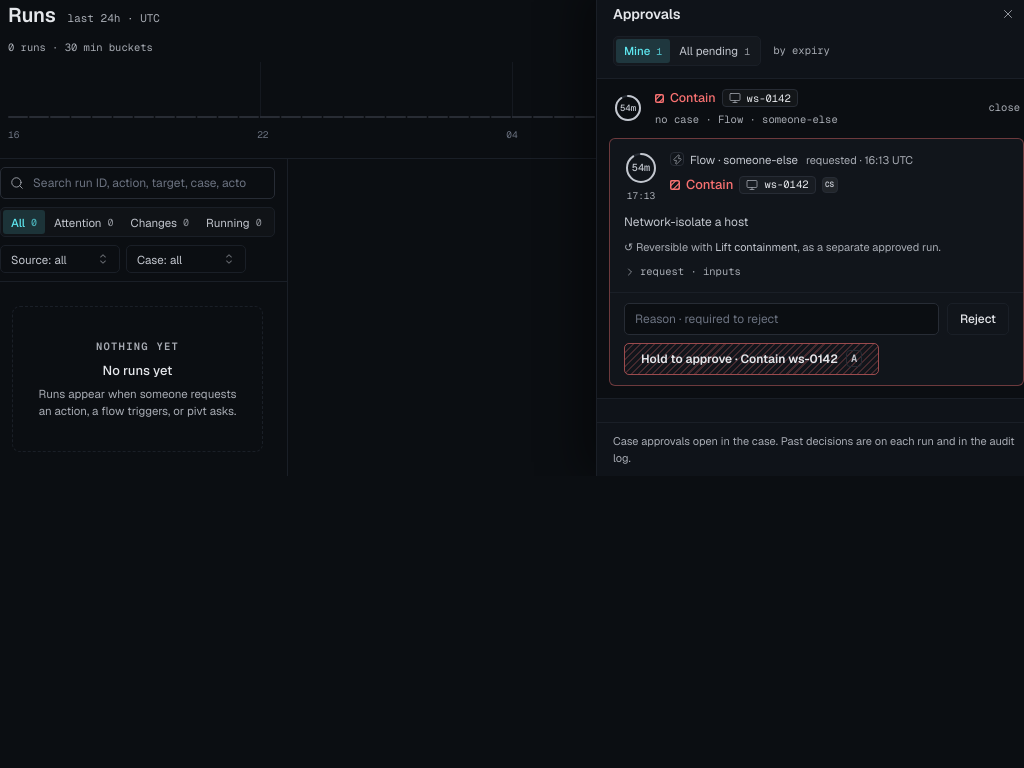
Scenario: Approvals › reject requires a reason
Click the button "Reject".
click(978, 319)  # box [947,303,1009,335]
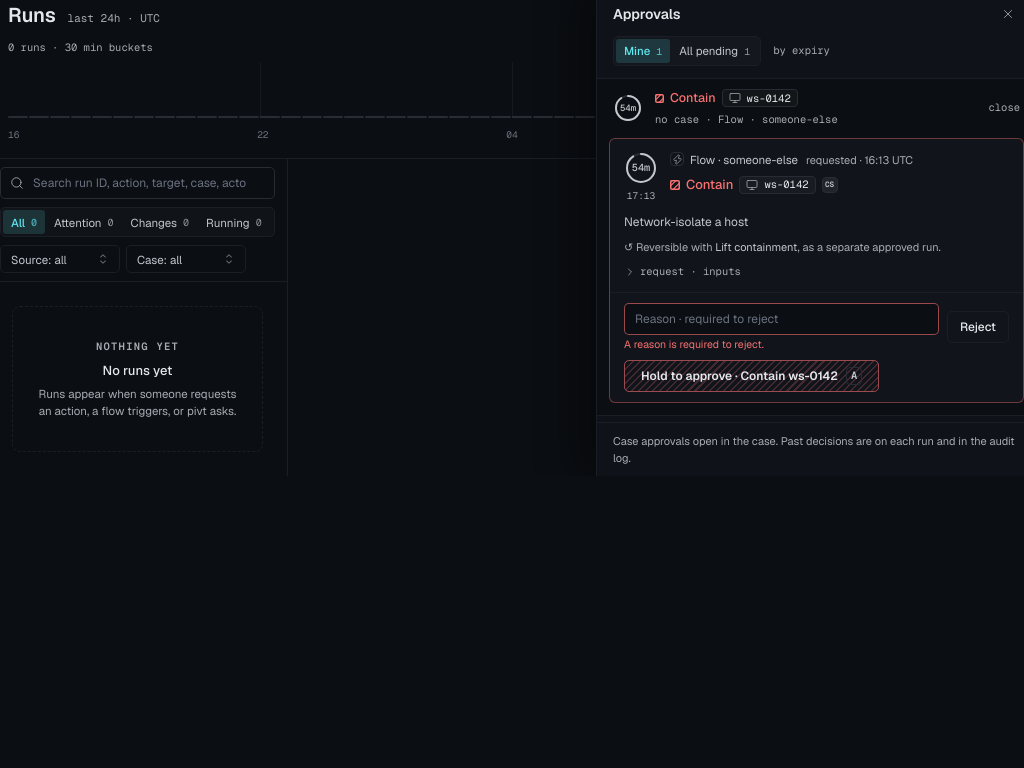
Now the text "A reason is required to reject." is shown, box [624,337,764,351]
